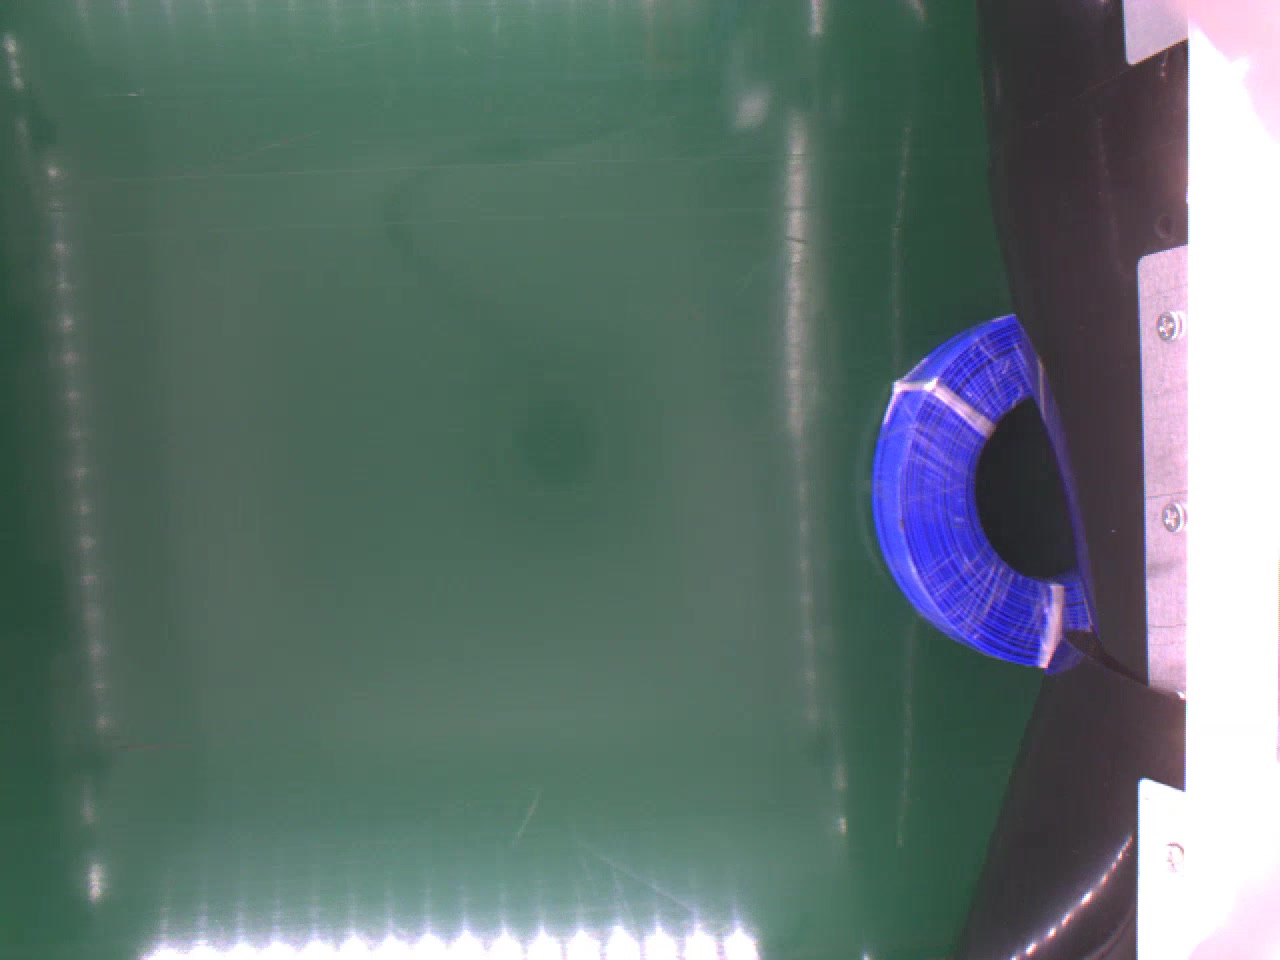blue: (870, 308, 1090, 665)
